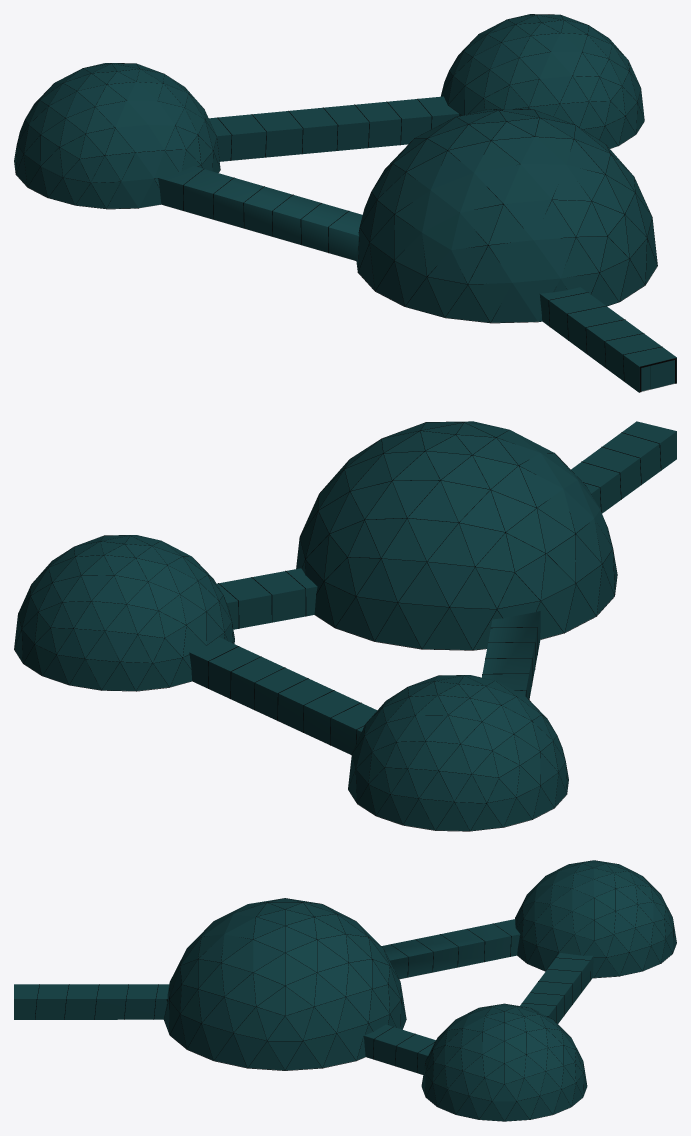
The model's file is DomeHUB.fbx.
3 views of the same model, one above another, from view 1: azimuth 30°, elevation 25°; view 2: azimuth 150°, elevation 25°; view 3: azimuth 270°, elevation 25° (orthographic). The views are drawn at different scales.
Visible parts, largest first — view 1: Icosphere002, Rectangle002, Shape003, Shape001, Shape002; view 2: Icosphere002, Rectangle002, Shape003, Shape001, Shape002; view 3: Icosphere002, Rectangle002, Shape003, Shape002, Shape001.
Boxes of the visible parts, x1,y1,x2,y2 form: Icosphere002: (14,14,657,322); Rectangle002: (158,96,676,392); Shape003: (356,109,657,323); Shape001: (14,63,220,209); Shape002: (441,14,644,148); Icosphere002: (14,421,617,830); Rectangle002: (189,421,676,754); Shape003: (296,421,617,650); Shape001: (348,675,568,831); Shape002: (14,535,234,691); Icosphere002: (164,860,676,1121); Rectangle002: (14,919,593,1074); Shape003: (164,898,406,1070); Shape002: (421,1003,587,1121); Shape001: (515,860,676,978).
Bounding box in the file's own units: 2508 × 606 × 3290.
